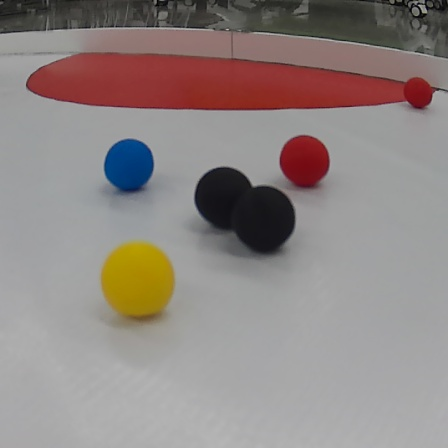black: (237, 185, 302, 254), (190, 167, 255, 225)
blue: (100, 136, 155, 193)
red: (278, 130, 336, 188), (404, 75, 432, 110)
red_base: (33, 44, 436, 116)
